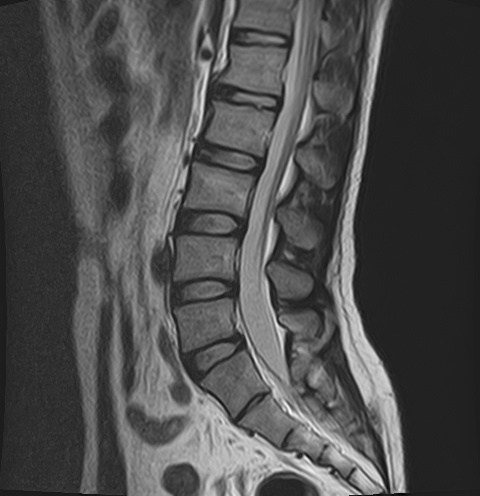L1,v2: (217, 49, 286, 86)
L1-L2,v5: (208, 79, 277, 116)
L2,v2: (202, 109, 271, 146)
L2-L3,v2: (193, 141, 262, 178)
L3,v1: (182, 169, 251, 206)
L3-L4,v2: (177, 206, 246, 243)
L4,v1: (169, 241, 238, 278)
L4-L5,v1: (169, 269, 238, 306)
L5,v1: (170, 305, 239, 342)
L5-S1,v2: (178, 336, 247, 373)
T12-L1,v1: (224, 19, 293, 56)
